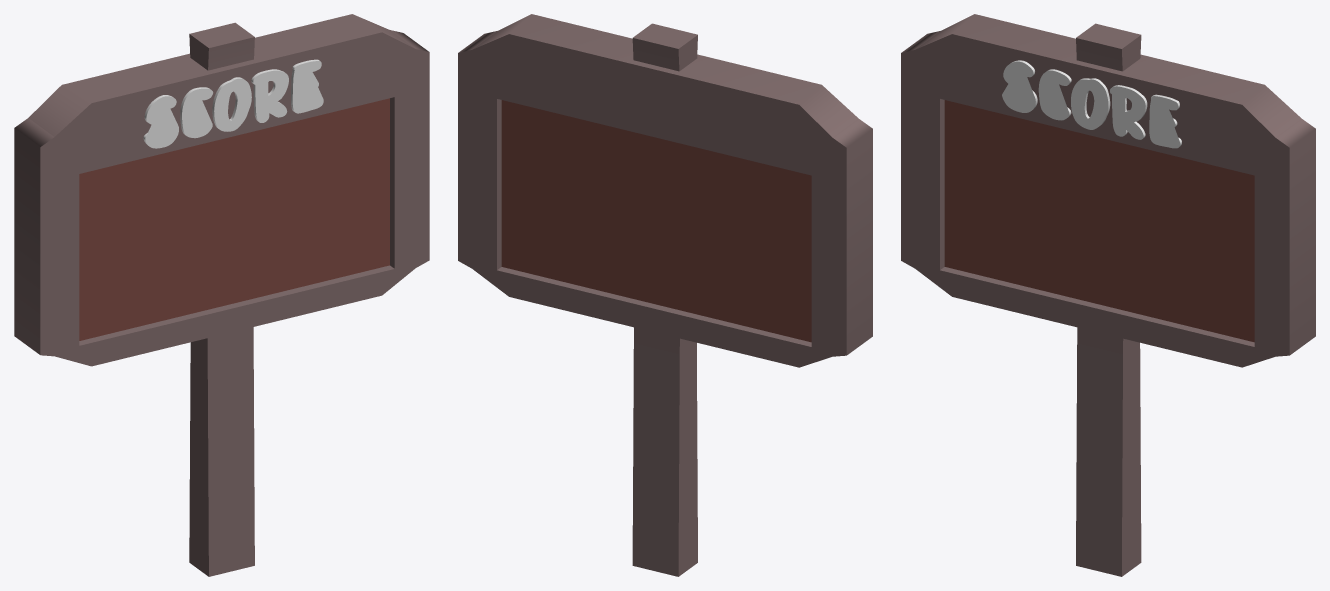
Rendered from score.fbx.
3 views of the same model, side by side, from view 1: azimuth 30°, elevation 25°; view 2: azimuth 150°, elevation 25°; view 3: azimuth 330°, elevation 25° (orthographic).
Visible parts, largest first — view 1: Score; view 2: Score; view 3: Score.
Boxes of the visible parts, x1=… form: Score: x1=14, y1=14, x2=429, y2=576; Score: x1=458, y1=14, x2=872, y2=576; Score: x1=901, y1=14, x2=1315, y2=576.
Bounding box in the file's own units: 4.78 × 6.21 × 0.597.
